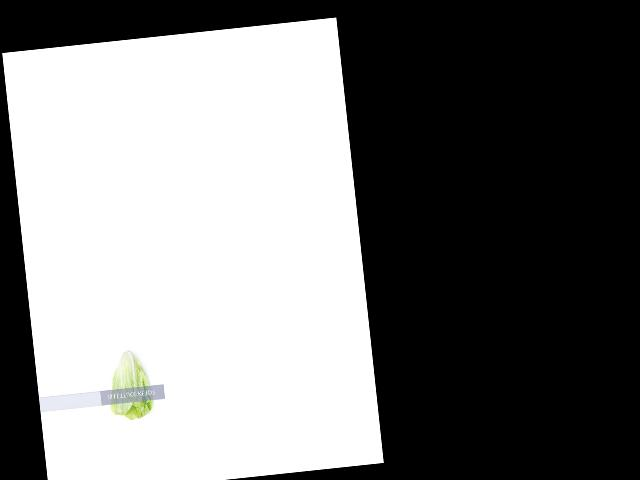lettuce: (102, 342, 158, 422)
